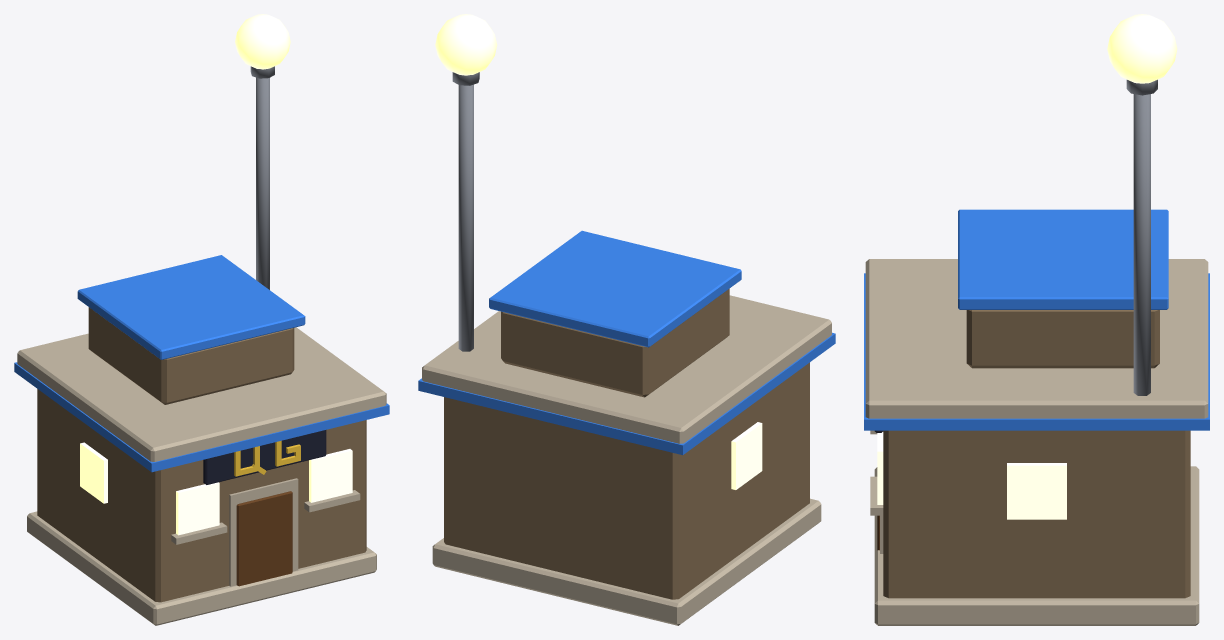
File: imad.glb
3 renders of one model, left to right at view 1: azimuth 30°, elevation 25°; view 2: azimuth 150°, elevation 25°; view 3: azimuth 270°, elevation 25°, orthographic. The views are drawn at different scales.
Parts seen in each view (by area): view 1: base, roof, attic_roof, attic, plinth, door, roof_band, pole, sign, bulb, door_frame, window_L (+4 smaller); view 2: base, roof, attic_roof, attic, plinth, roof_band, pole, bulb, side_window_L; view 3: base, roof, attic_roof, plinth, attic, pole, roof_band, bulb, side_window_R, window_R.
Boxes of the visible parts, x1,y1,x2,y2 form: base: [37, 389, 366, 602]; roof: [17, 327, 386, 461]; attic_roof: [77, 255, 305, 359]; attic: [88, 307, 294, 404]; plinth: [27, 511, 376, 625]; door: [236, 491, 292, 586]; roof_band: [14, 362, 389, 472]; pole: [256, 77, 269, 289]; sign: [203, 430, 326, 484]; bulb: [235, 14, 290, 69]; door_frame: [229, 478, 298, 586]; window_L: [176, 482, 219, 535]; base: [444, 362, 809, 599]; roof: [422, 295, 831, 443]; attic_roof: [489, 230, 741, 347]; attic: [501, 288, 729, 397]; plinth: [432, 498, 821, 625]; roof_band: [418, 332, 835, 455]; pole: [458, 84, 473, 351]; bulb: [435, 14, 497, 75]; side_window_L: [731, 422, 762, 489]; base: [883, 430, 1190, 598]; roof: [865, 259, 1208, 418]; attic_roof: [958, 209, 1168, 309]; plinth: [874, 466, 1199, 625]; attic: [966, 310, 1159, 368]; pole: [1133, 94, 1150, 395]; roof_band: [864, 273, 1209, 430]; bulb: [1107, 14, 1177, 83]; side_window_R: [1007, 463, 1066, 519]; window_R: [877, 432, 883, 504].
Bounding box in the file's own units: 2.04 × 3.8 × 1.97.
